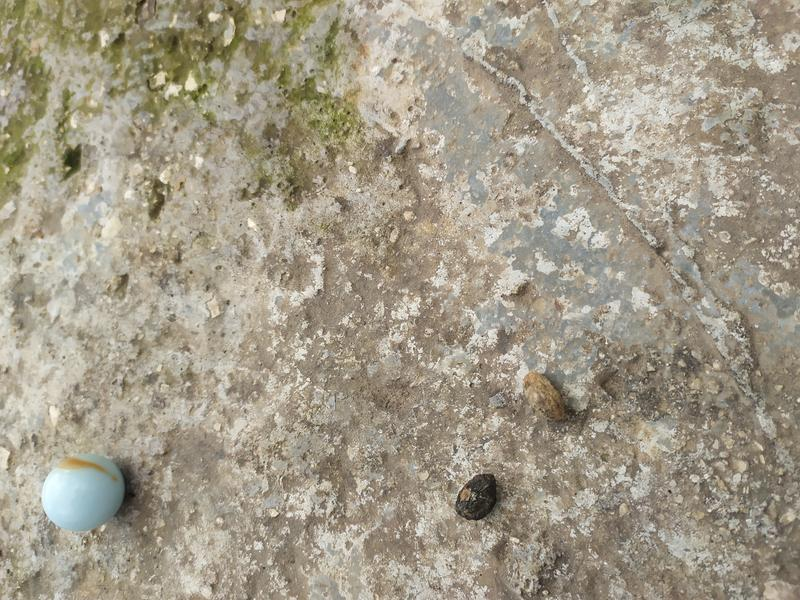Warning: (39, 450, 128, 534)
